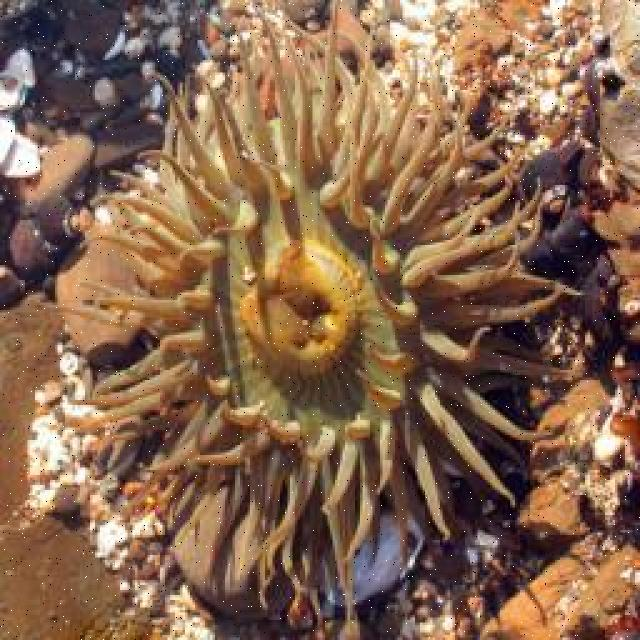reefs: (30, 0, 591, 638)
